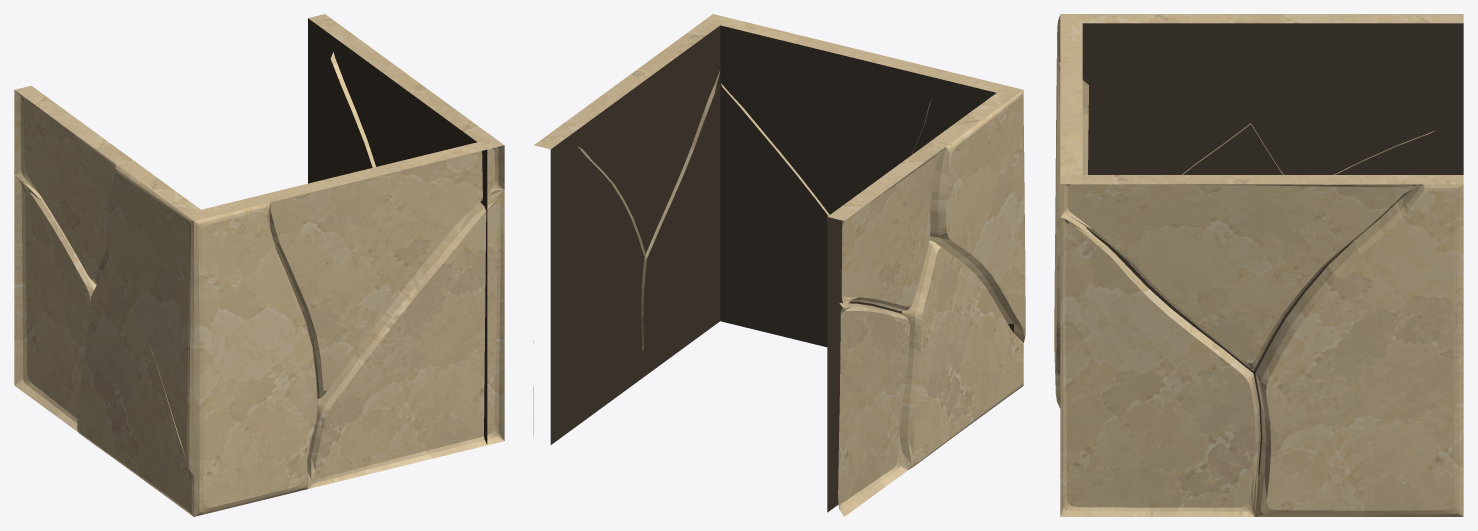
Rendered from ground_end_08.glb.
3 views of the same model, side by side, from view 1: azimuth 30°, elevation 25°; view 2: azimuth 150°, elevation 25°; view 3: azimuth 270°, elevation 25° (orthographic). The views are drawn at different scales.
Parts seen in each view (by area): view 1: GroundEnd08_Body; view 2: GroundEnd08_Body; view 3: GroundEnd08_Body.
Part boxes in pixels (x1=…): GroundEnd08_Body: x1=14, y1=14, x2=504, y2=516; GroundEnd08_Body: x1=533, y1=14, x2=1025, y2=516; GroundEnd08_Body: x1=1054, y1=14, x2=1463, y2=516.
Size of the model in its own units: 1.03 by 0.91 by 1.02.
Materials: 12 (11 with a texture image).
